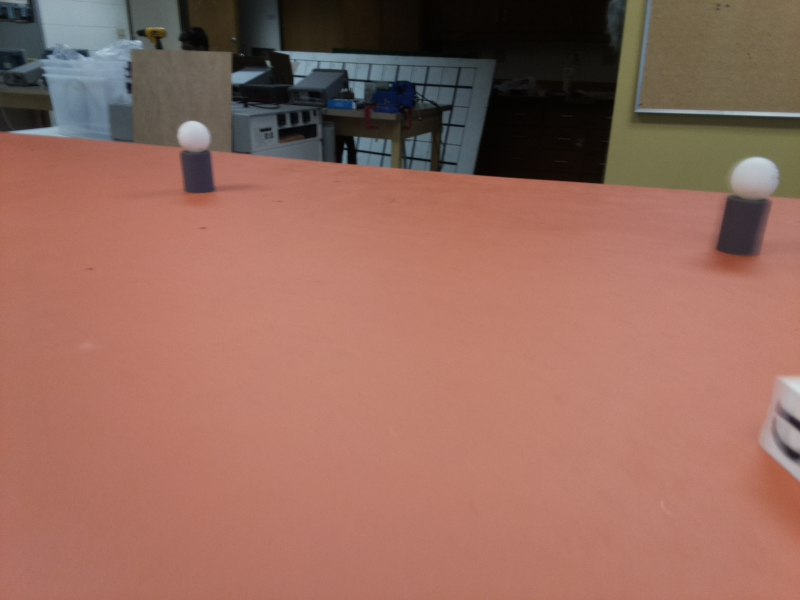obstacle: (712, 156, 783, 257), (179, 121, 214, 193)
